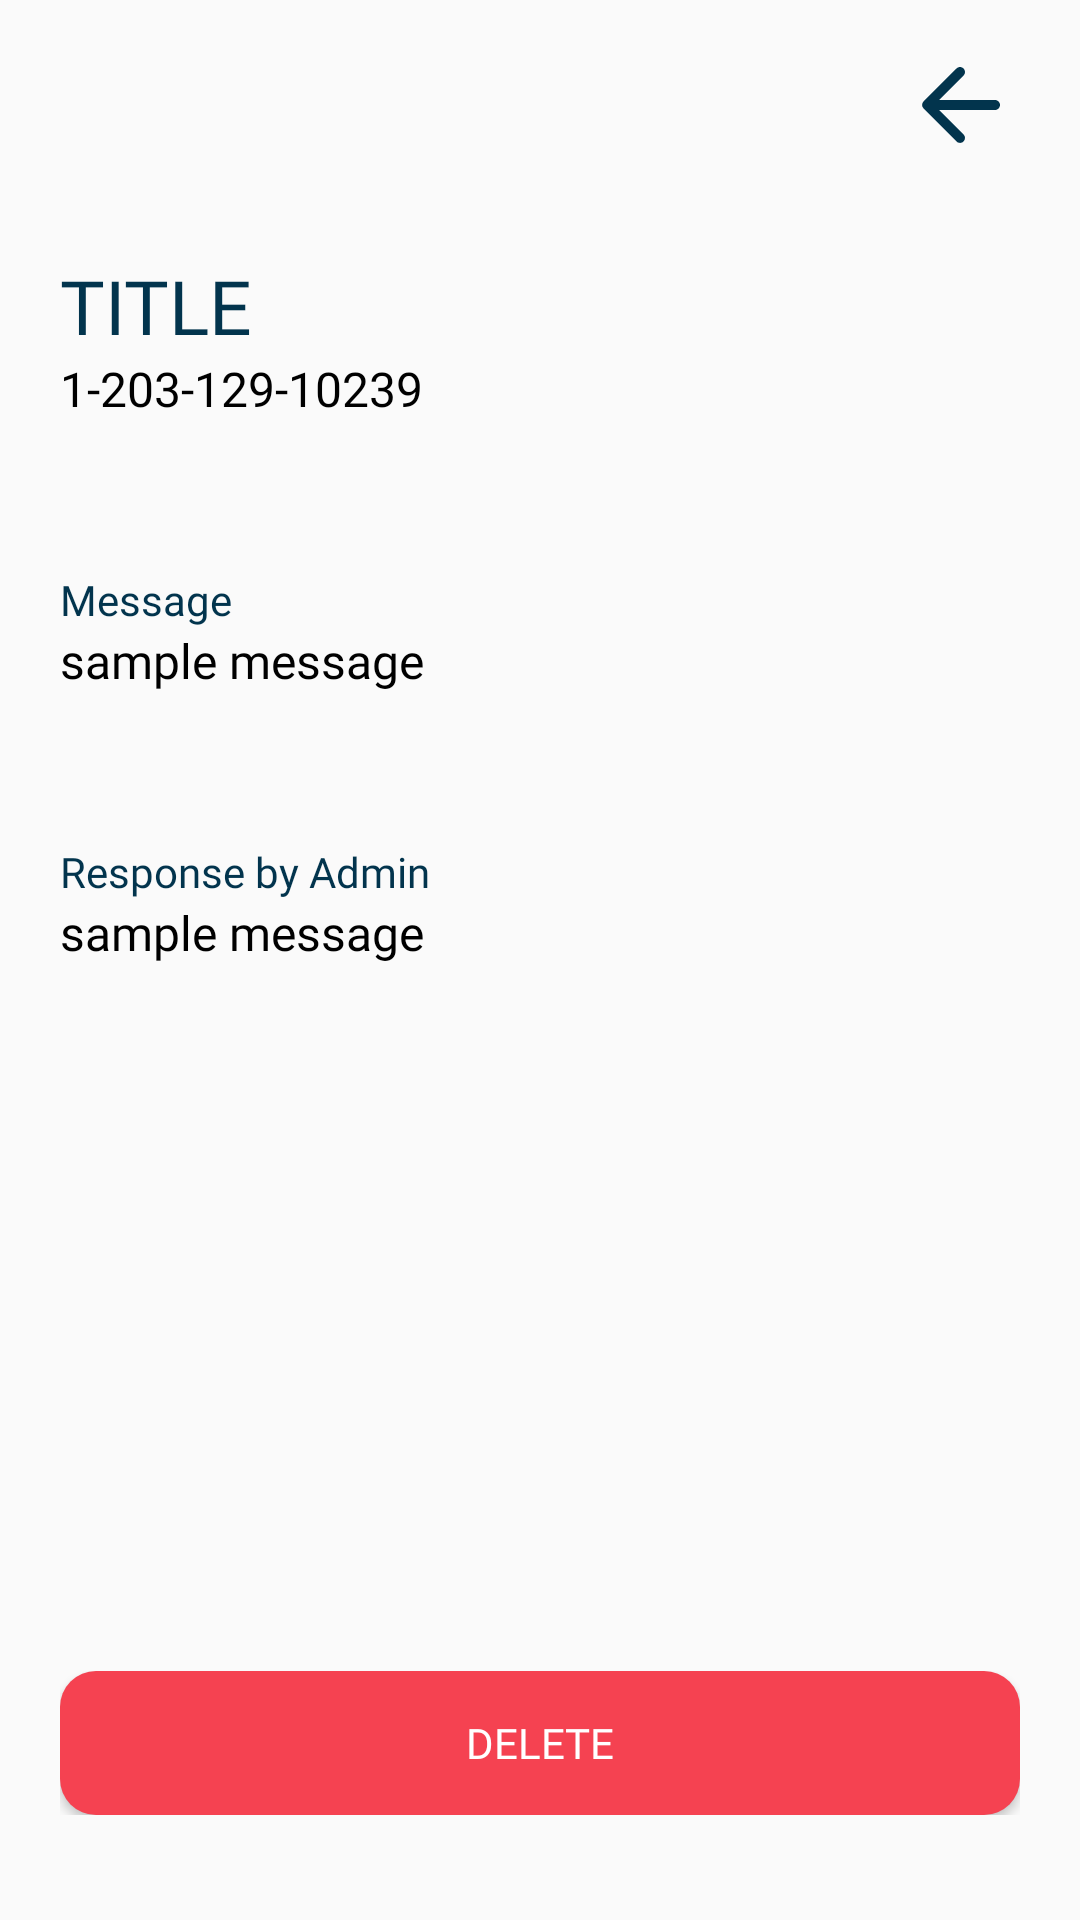

Screen size 1080*1920. Icon name, then its box in pixels as (x1, y1, x2, y2):
arrow back: (922, 67, 1000, 143)
